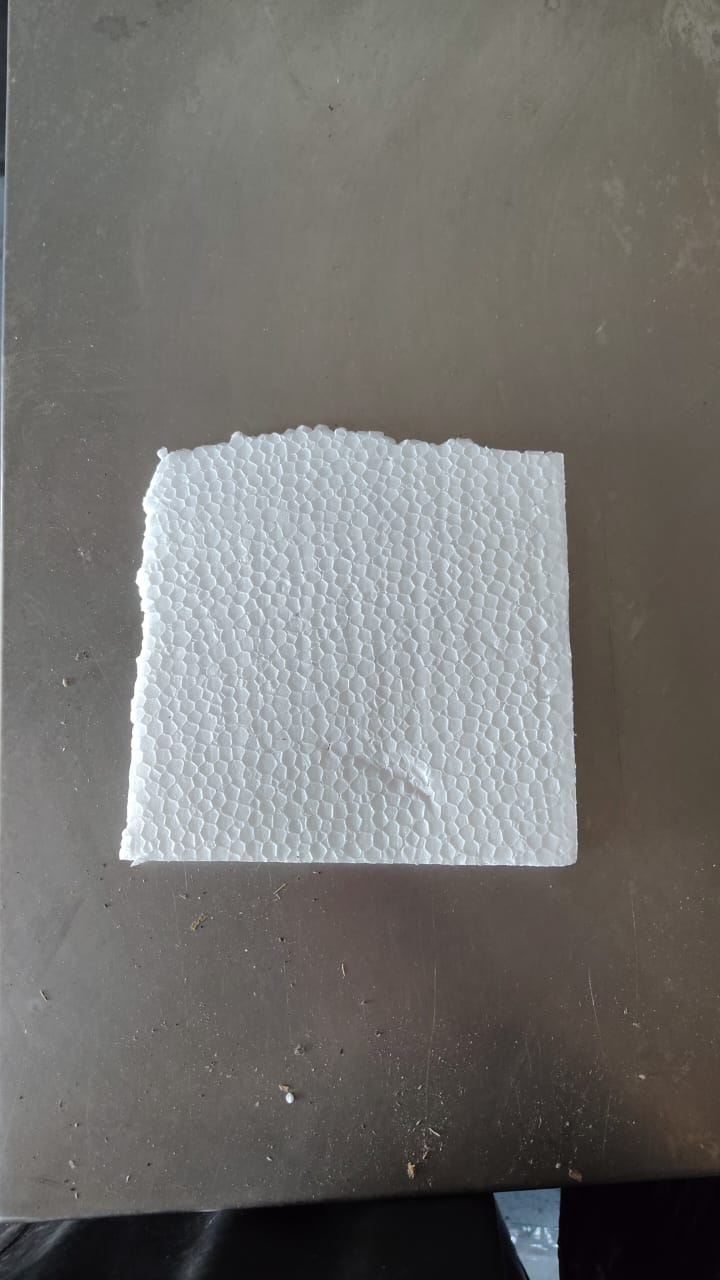Ordinario: (120, 427, 577, 869)
